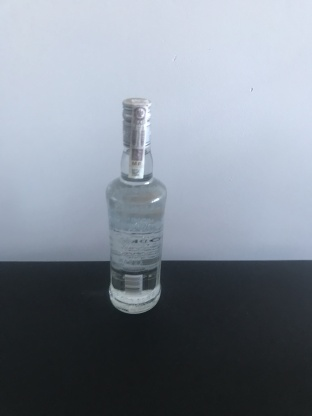nakretka: (119, 93, 153, 150)
